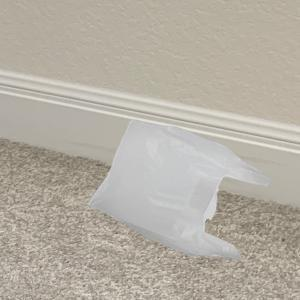plastic_bag: (85, 114, 272, 263)
